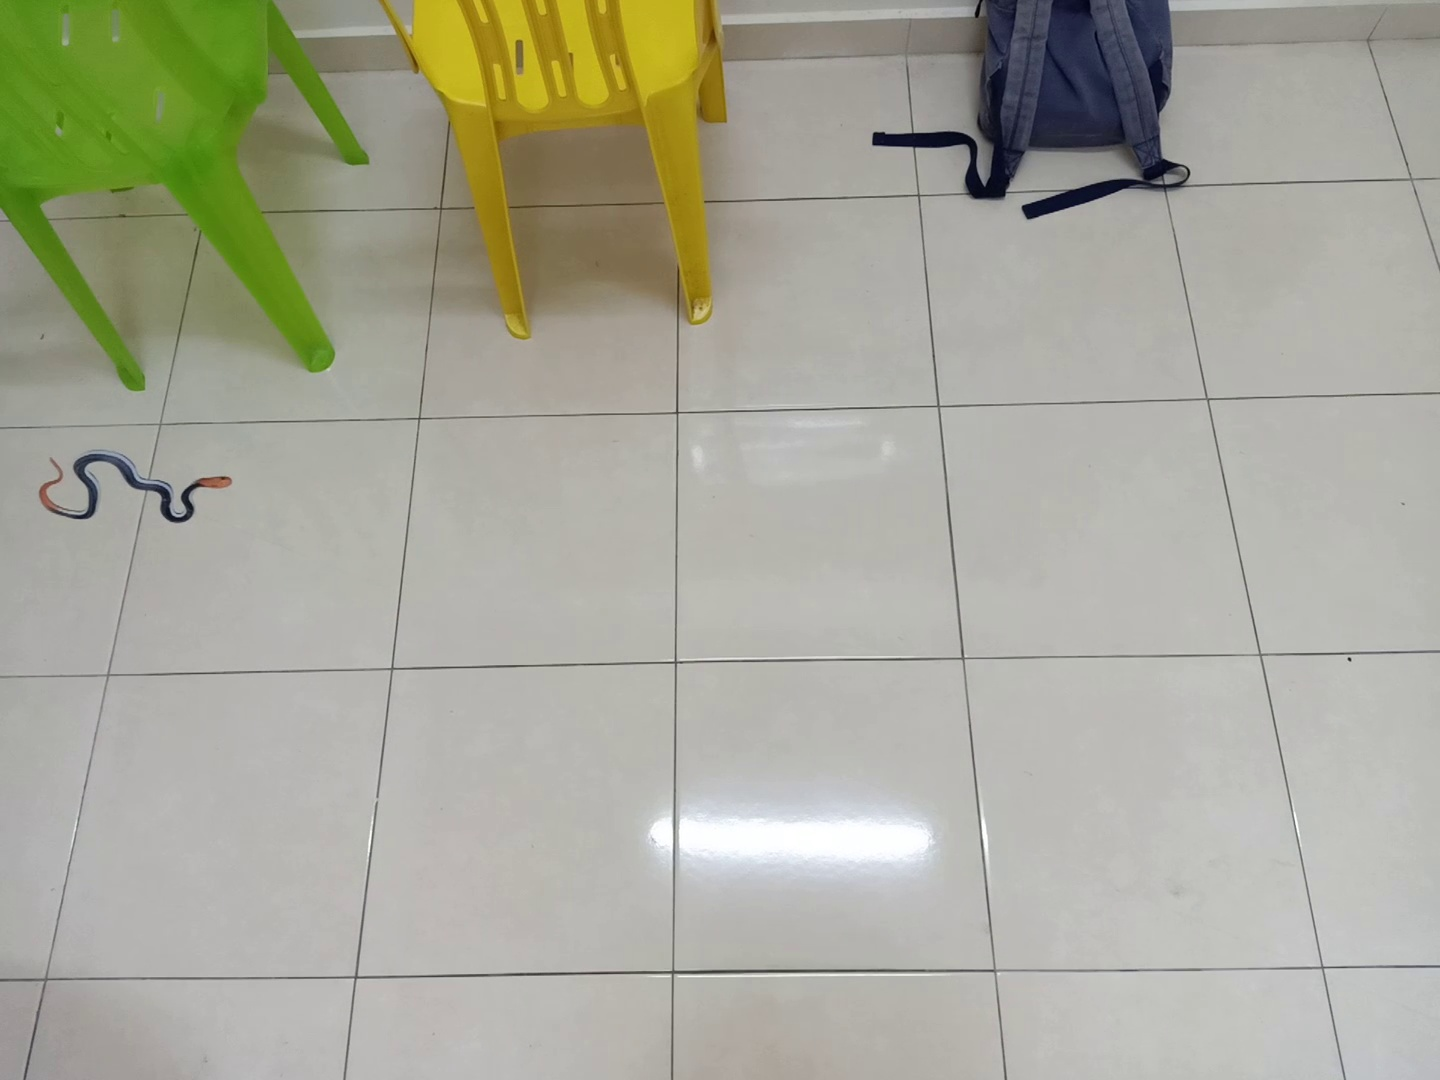snake: (34, 437, 242, 525)
